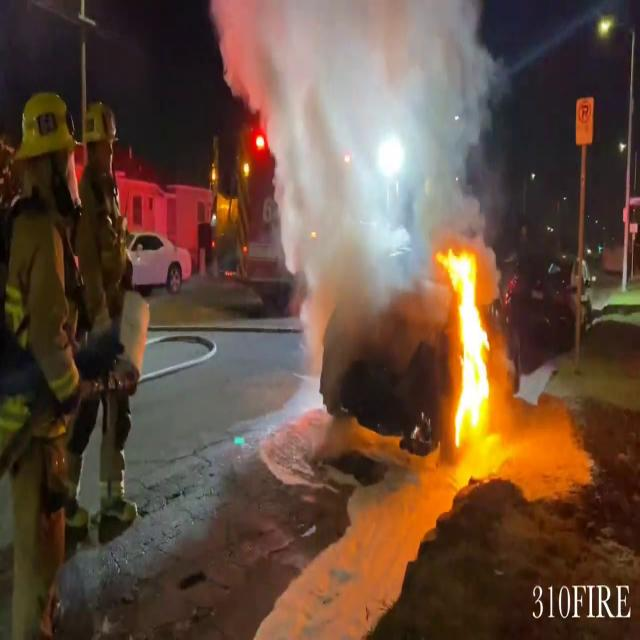Fire: (435, 240, 496, 450)
Smoke: (212, 0, 508, 260)
